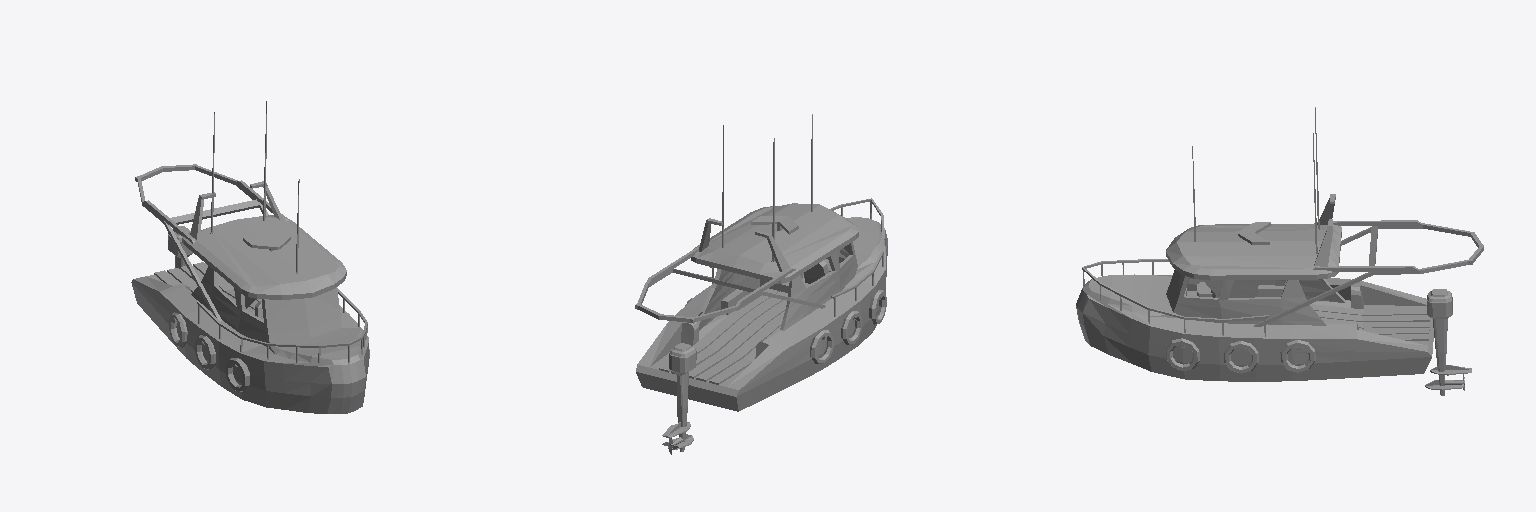
The model's file is boat.obj.
3 views of the same model, side by side, from view 1: azimuth 30°, elevation 25°; view 2: azimuth 150°, elevation 25°; view 3: azimuth 270°, elevation 25° (orthographic).
Parts seen in each view (by area): view 1: Boat_Plane.013; view 2: Boat_Plane.013; view 3: Boat_Plane.013.
Boxes of the visible parts, box(x1,y1,x2,y2) form: Boat_Plane.013: box(131, 101, 369, 413); Boat_Plane.013: box(635, 114, 887, 454); Boat_Plane.013: box(1076, 107, 1483, 395).
Bounding box in the file's own units: 19.31 × 35.43 × 47.87.